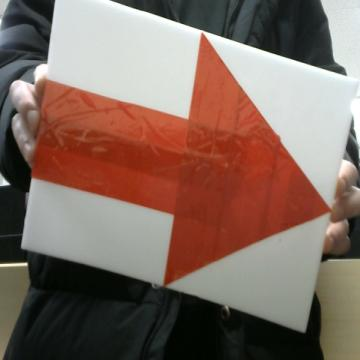red_right: (32, 34, 329, 284)
